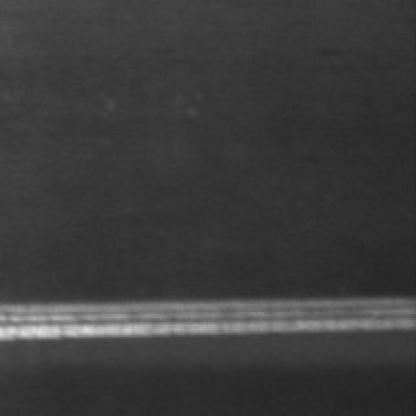scratches: (4, 285, 416, 343)
